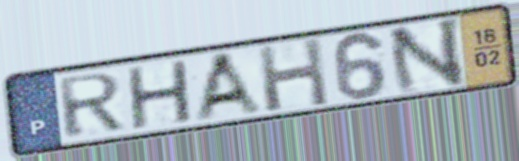6: (332, 29, 387, 103)
A: (191, 48, 269, 123)
H: (254, 34, 333, 115), (124, 57, 197, 133)
N: (384, 13, 469, 99)
R: (55, 71, 128, 141)
